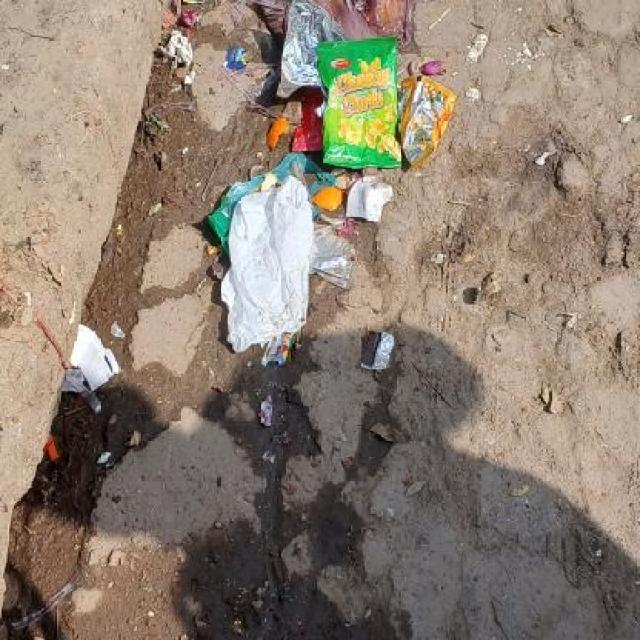garbage: (203, 166, 403, 372), (251, 0, 460, 164), (160, 2, 248, 84), (60, 320, 123, 388), (88, 433, 147, 466), (40, 432, 64, 466), (256, 386, 272, 428)
